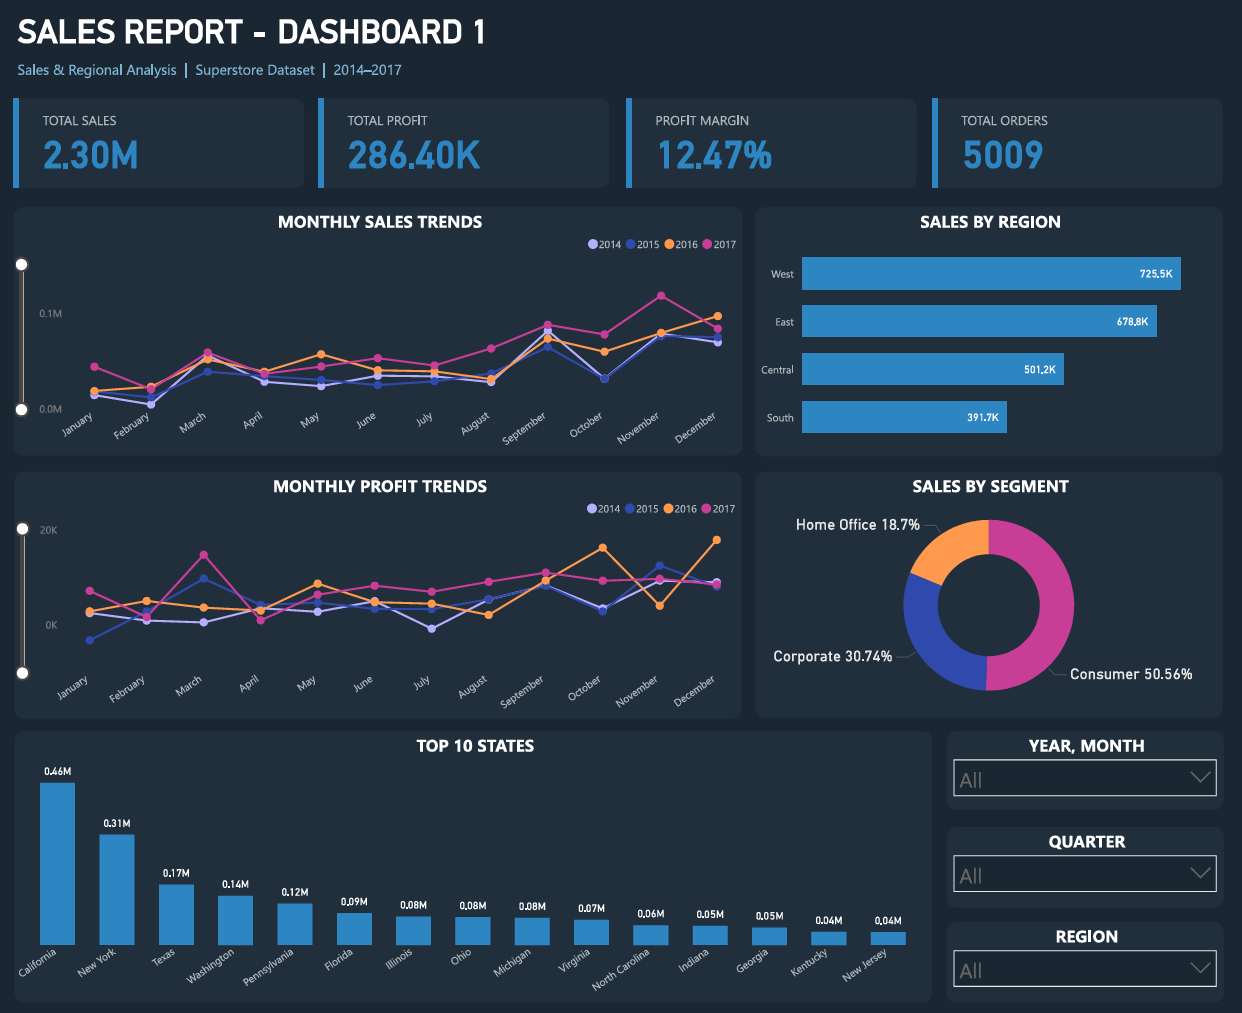

This screenshot's page, from the dashboard's own definition file:
{"tool":"powerbi","page":{"name":"Dashboard 1 - SALES","canvas":[1285,1050],"ordinal":0},"visuals":[{"type":"textbox","box":[14.7,12.1,510.7,48.3],"z":0},{"type":"textbox","box":[15,60,410,33.3],"z":1000},{"type":"cardVisual","fields":{"Data":["Sum(Sample - Superstore.Sales)"]},"box":[16.2,106.2,300,92.5],"z":2000},{"type":"cardVisual","fields":{"Data":["Sum(Sample - Superstore.Profit)"]},"box":[331.2,106.2,300,92.5],"z":3000},{"type":"cardVisual","fields":{"Data":["Sample - Superstore.PROFIT MARGIN"]},"box":[648.8,106.2,300,92.5],"z":4000},{"type":"cardVisual","fields":{"Data":["Count(Sample - Superstore.Order ID)"]},"box":[965,106.2,300,92.5],"z":5000},{"type":"lineChart","title":"MONTHLY SALES TRENDS","fields":{"Category":["Sample - Superstore.Order Date.Variation.Date Hierarchy.Month"],"Y":["Sum(Sample - Superstore.Sales)"],"Series":["Sample - Superstore.Order Date.Variation.Date Hierarchy.Year"]},"box":[15.7,218.4,752.8,255.8],"z":6000},{"type":"barChart","title":"SALES BY REGION","fields":{"Category":["Sample - Superstore.Region"],"Y":["Sum(Sample - Superstore.Sales)"]},"box":[781.5,218.5,483.9,256],"z":7000},{"type":"lineChart","title":"MONTHLY PROFIT TRENDS","fields":{"Category":["Sample - Superstore.Order Date.Variation.Date Hierarchy.Month"],"Y":["Sum(Sample - Superstore.Profit)"],"Series":["Sample - Superstore.Order Date.Variation.Date Hierarchy.Year"]},"box":[17.4,490.6,750.7,255],"z":8000},{"type":"donutChart","title":"SALES BY SEGMENT","fields":{"Category":["Sample - Superstore.Segment"],"Y":["Sum(Sample - Superstore.Sales)"]},"box":[781.5,490.6,483.9,254.7],"z":9000},{"type":"columnChart","title":"TOP 10 STATES","fields":{"Category":["Sample - Superstore.State"],"Y":["Sum(Sample - Superstore.Sales)"]},"box":[16.8,758.7,947.8,280],"z":10000},{"type":"slicer","title":"YEAR, MONTH","fields":{"Values":["Sample - Superstore.Order Date.Variation.Date Hierarchy.Year","Sample - Superstore.Order Date.Variation.Date Hierarchy.Month"]},"box":[980.1,758.7,286,81.4],"z":11000},{"type":"slicer","title":"QUARTER","fields":{"Values":["Sample - Superstore.Order Date.Variation.Date Hierarchy.Quarter"]},"box":[980.1,858,286,82.6],"z":12000},{"type":"slicer","title":"REGION","fields":{"Values":["Sample - Superstore.Region"]},"box":[980.1,956.2,286,82.6],"z":13000}]}

Visuals, with their boxes in screenshot pixels (x1, y1, x2, y2), scaled from the page's 1285x1050 canvas onto the 1242x1013 screenshot:
textbox: box(14, 12, 508, 58)
textbox: box(14, 58, 411, 90)
cardVisual - Sum(Sample - Superstore.Sales): box(16, 102, 306, 192)
cardVisual - Sum(Sample - Superstore.Profit): box(320, 102, 610, 192)
cardVisual - Sample - Superstore.PROFIT MARGIN: box(627, 102, 917, 192)
cardVisual - Count(Sample - Superstore.Order ID): box(933, 102, 1223, 192)
"MONTHLY SALES TRENDS" lineChart: box(15, 211, 743, 457)
"SALES BY REGION" barChart: box(755, 211, 1223, 458)
"MONTHLY PROFIT TRENDS" lineChart: box(17, 473, 742, 719)
"SALES BY SEGMENT" donutChart: box(755, 473, 1223, 719)
"TOP 10 STATES" columnChart: box(16, 732, 932, 1002)
"YEAR, MONTH" slicer: box(947, 732, 1224, 810)
"QUARTER" slicer: box(947, 828, 1224, 907)
"REGION" slicer: box(947, 923, 1224, 1002)
